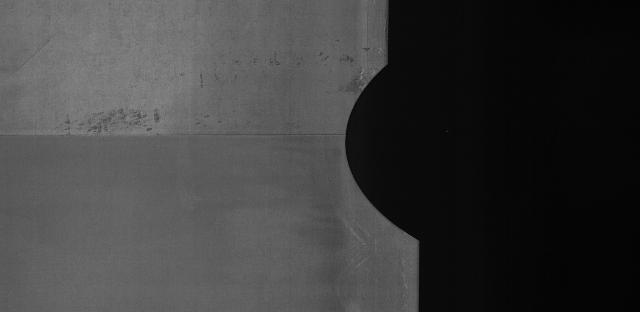welding_line: (0, 124, 346, 145)
